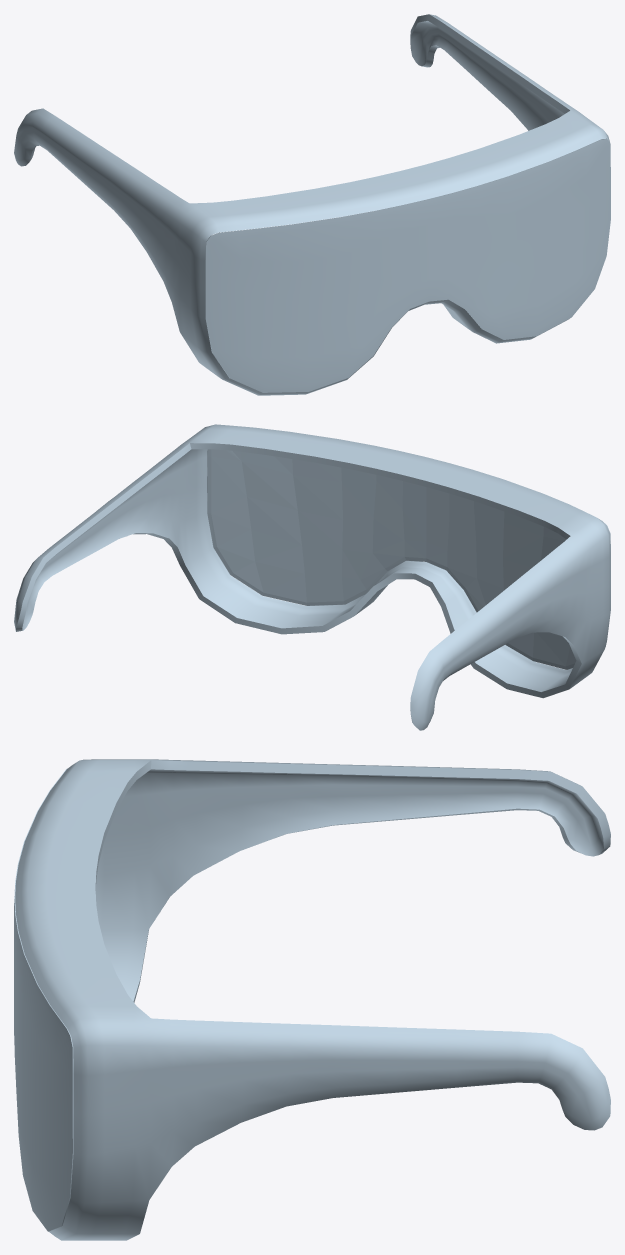
Rendered from SafetyGoggles.fbx.
3 renders of one model, top to bottom at view 1: azimuth 30°, elevation 25°; view 2: azimuth 150°, elevation 25°; view 3: azimuth 270°, elevation 25°, orthographic. The views are drawn at different scales.
Visible parts, largest first — view 1: SafetyGoggles; view 2: SafetyGoggles; view 3: SafetyGoggles.
Part boxes in pixels (x1,y1,x2,y2): SafetyGoggles: (14,14,610,395); SafetyGoggles: (14,424,610,730); SafetyGoggles: (14,759,610,1240).
Size of the model in its own units: 18.69 by 7.93 by 16.85.
